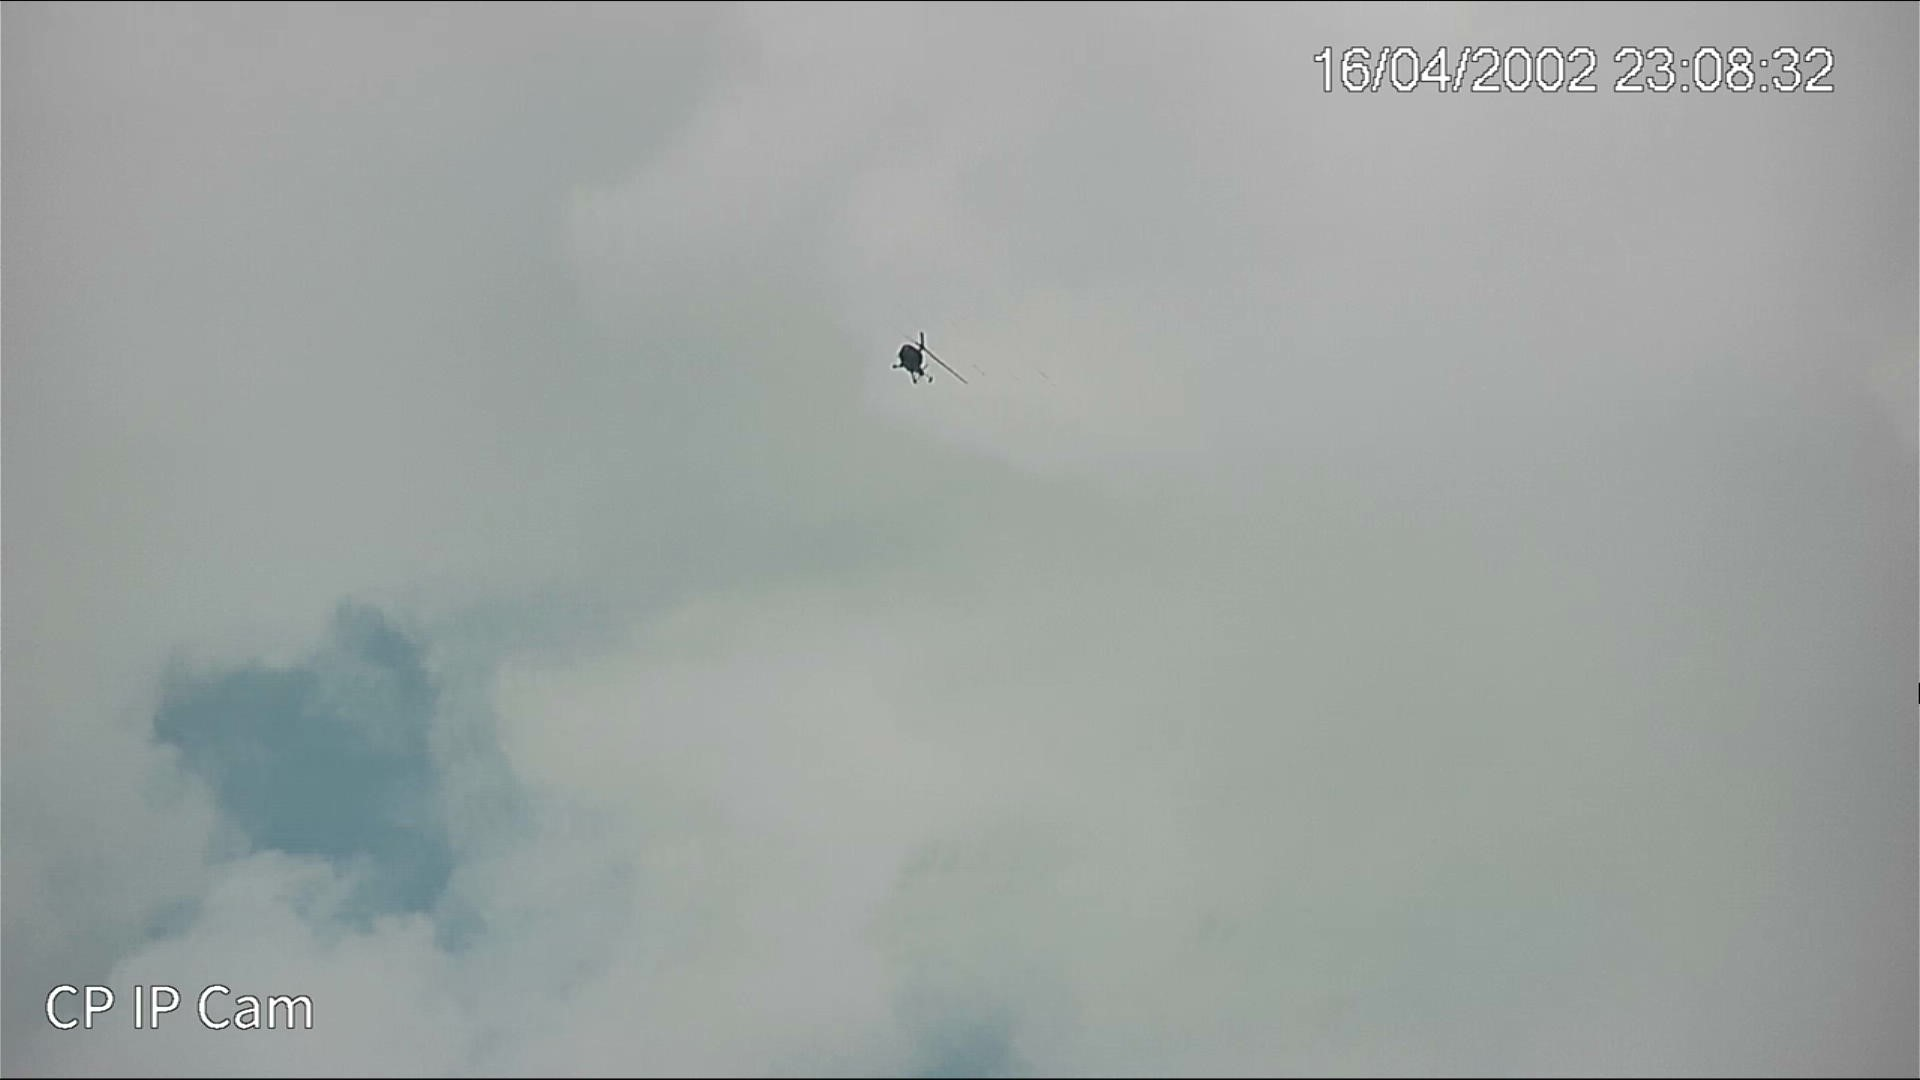SU_30: (889, 330, 945, 386)
